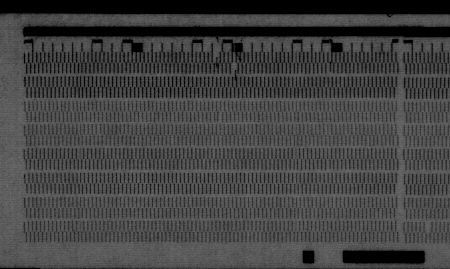Broken hole: (423, 221, 433, 234)
Oblique printing: (210, 51, 222, 67), (229, 63, 241, 79), (324, 61, 336, 76)
